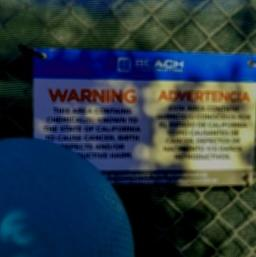algae: (0, 136, 133, 257)
